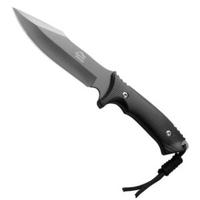knife: (10, 5, 183, 155)
